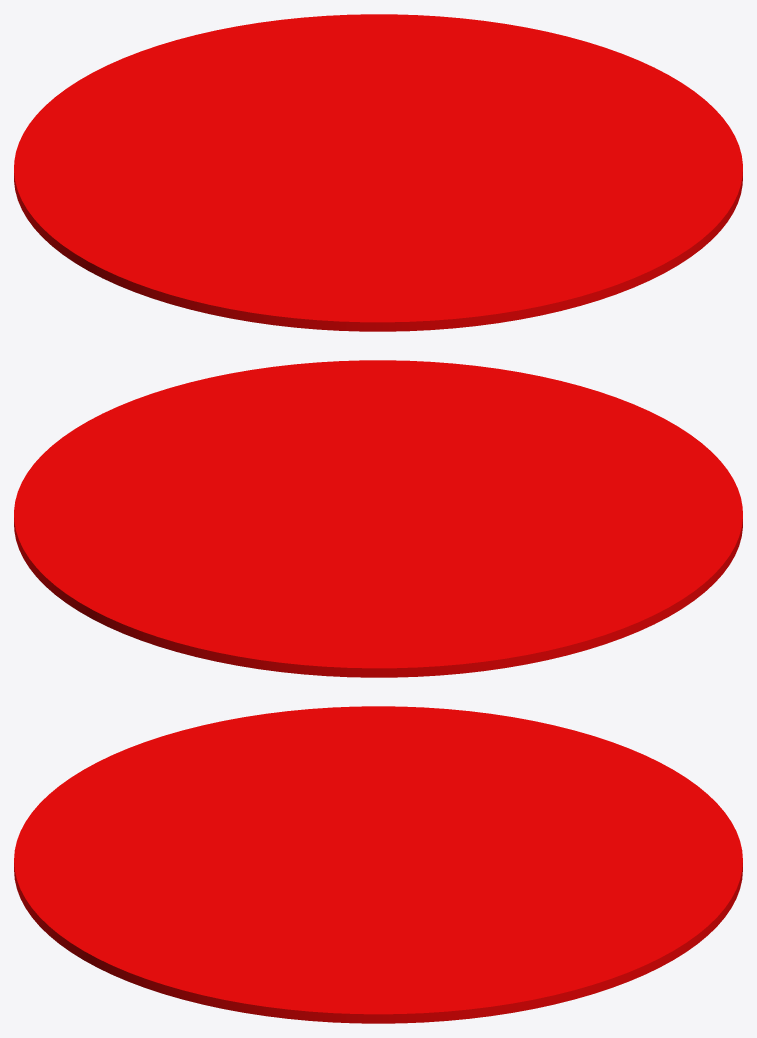
3 renders of one model, top to bottom at view 1: azimuth 30°, elevation 25°; view 2: azimuth 150°, elevation 25°; view 3: azimuth 270°, elevation 25°, orthographic.
Parts seen in each view (by area): view 1: Cylinder001; view 2: Cylinder001; view 3: Cylinder001.
Boxes of the visible parts, x1,y1,x2,y2 form: Cylinder001: (14, 14, 742, 331); Cylinder001: (14, 360, 742, 677); Cylinder001: (14, 706, 742, 1023).
Size of the model in its own units: 180 by 2.55 by 180.
